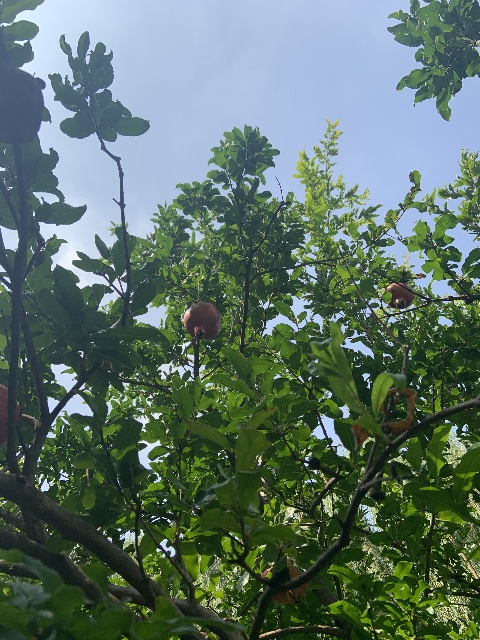ripe: (183, 302, 220, 340), (385, 282, 414, 309)
